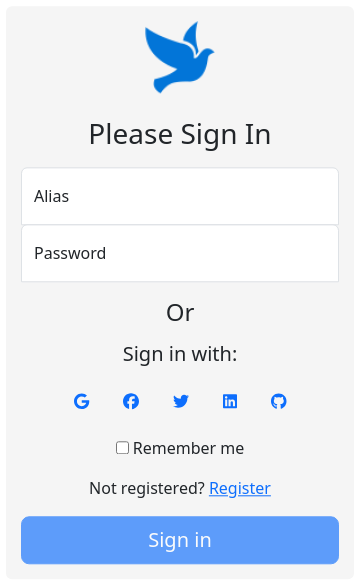
Test: Login Component › enables sign in button if both alias and password fields have text
Type "test" into the field labelled "Alias". click: (180, 196)
box: [21,167,339,225]
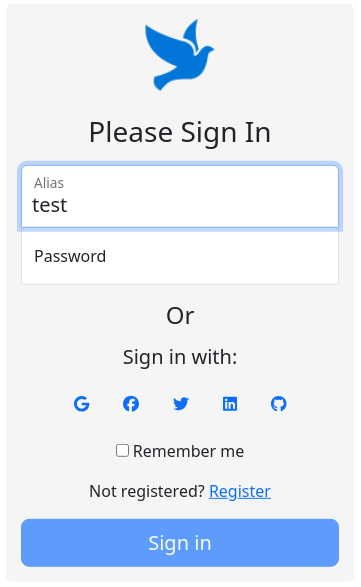
Type "test" into the password field labelled "Password". click: (180, 255)
box: [21,226,339,284]
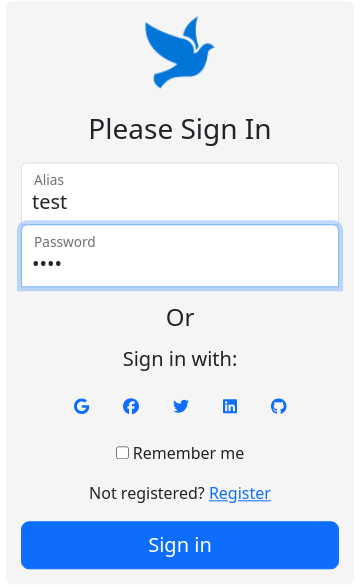
Expected: the button "Sign in" is enabled, [21,522,339,570]
